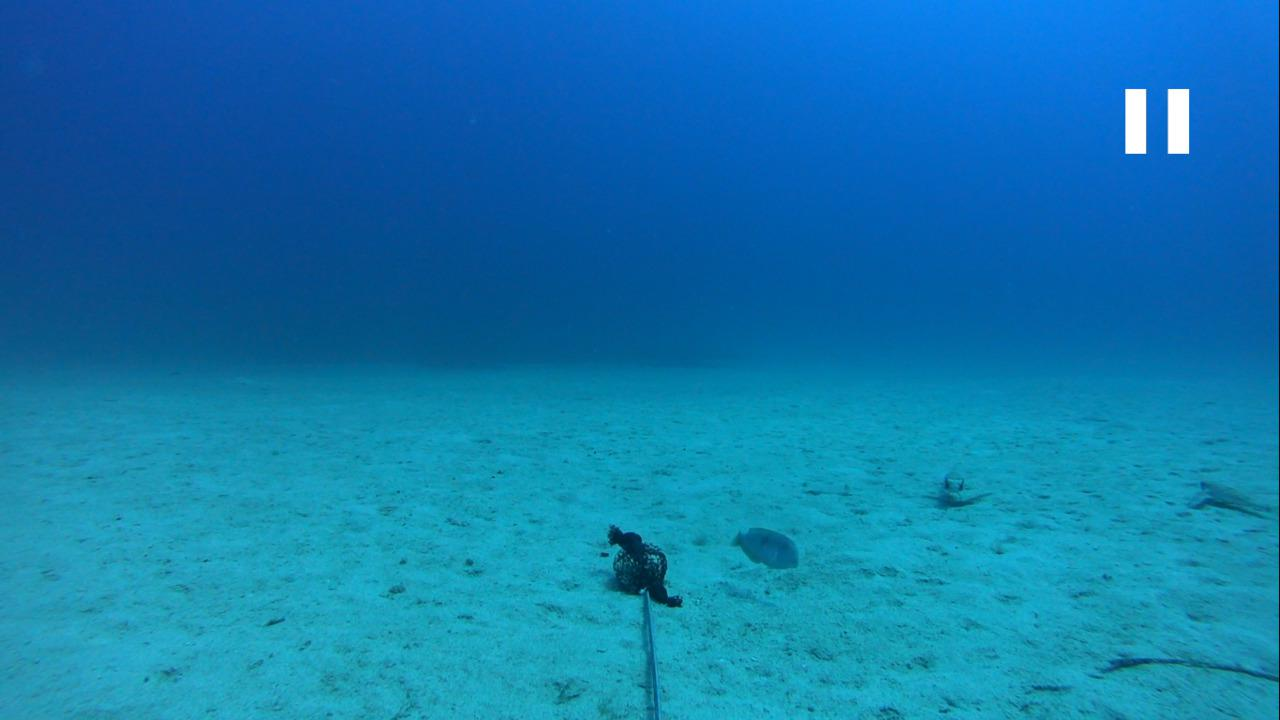bothus: (790, 471, 860, 500)
dactylopterus: (1174, 475, 1279, 526), (909, 470, 984, 512)
raor: (725, 519, 803, 575)
